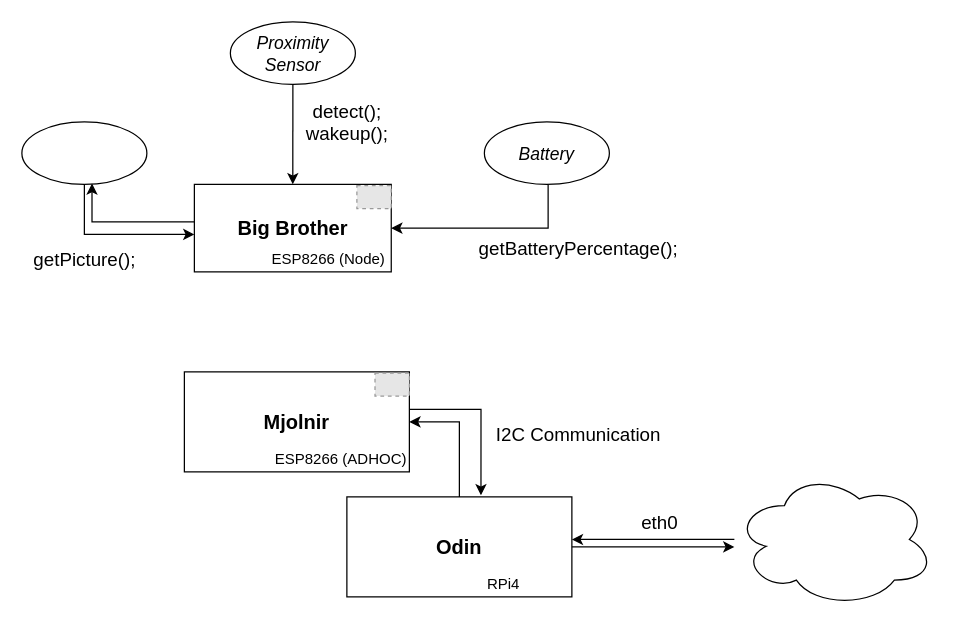
Some shapes in this 956 by 630 pixel diagram are drawn without their labels. Grey dashed boxes stand in for pictures. The shapes that lost their labels are listed below. From the top down, each one's box as (x1, y1, x2, y2) in pixels, then its label:
(21, 121, 147, 184): Camera
(733, 471, 934, 607): Home Network
